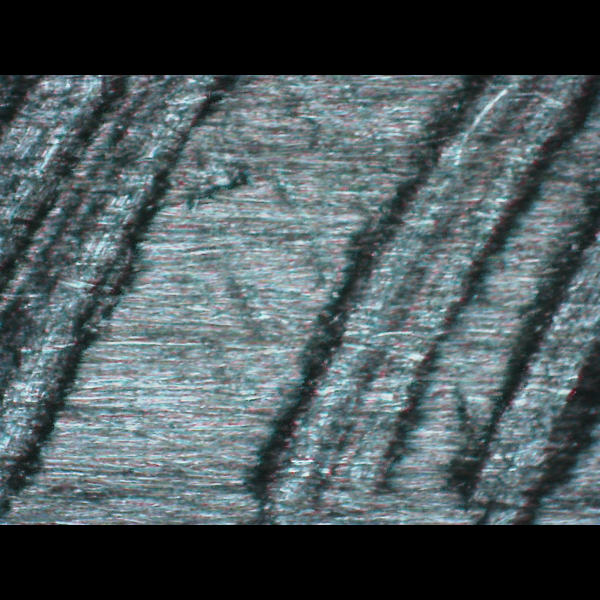d: (214, 80, 599, 520), (0, 77, 243, 515)
